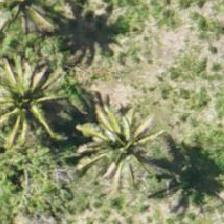coconut_tree: (0, 0, 68, 57)
